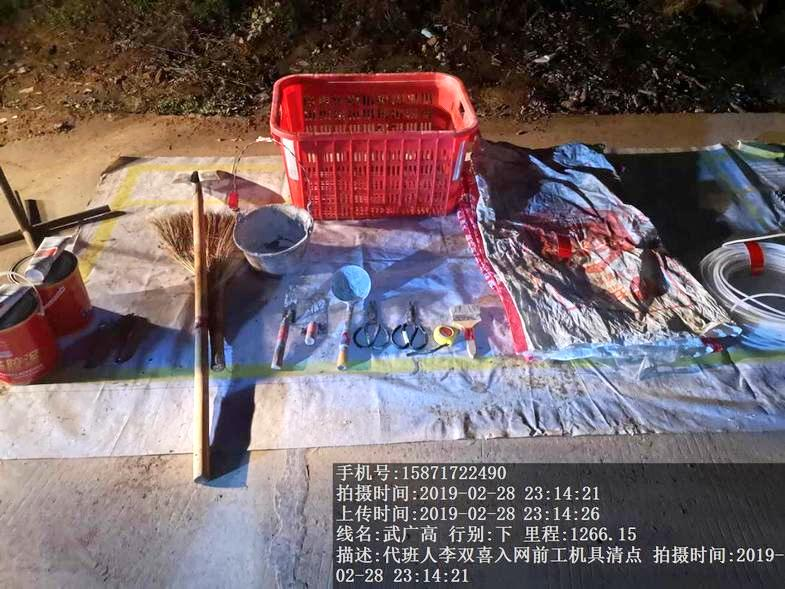BZD: (463, 142, 738, 352)
SG: (697, 227, 785, 351)
SNT: (233, 204, 316, 276)
